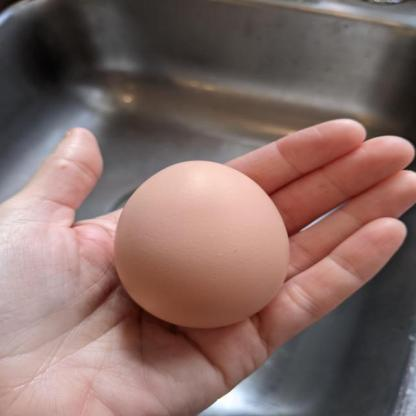egg: (101, 144, 294, 346)
